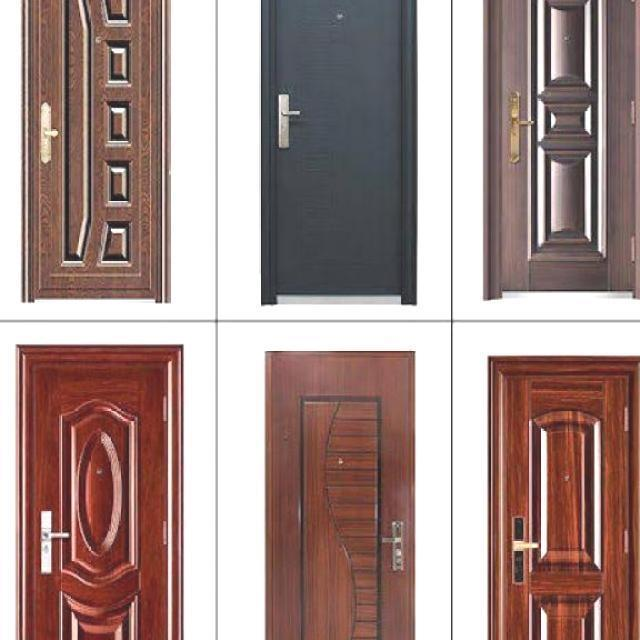door: (15, 344, 182, 639), (260, 0, 417, 304), (258, 343, 417, 640), (484, 2, 640, 301), (22, 0, 168, 302), (487, 355, 639, 639)
